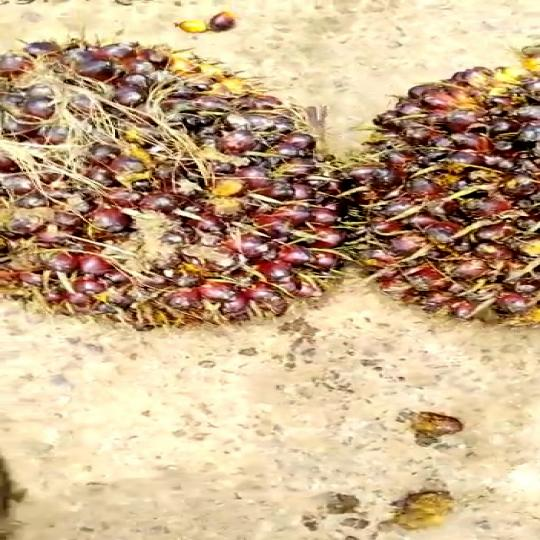kurang masak: (0, 27, 344, 347), (338, 37, 535, 338)
